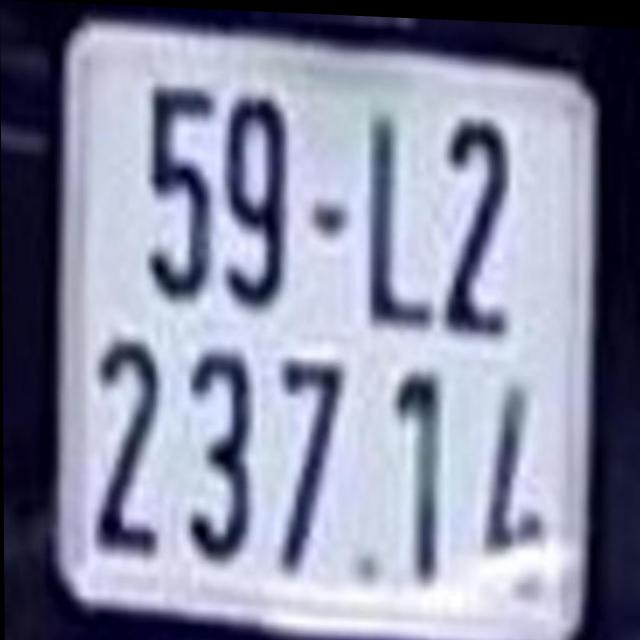1: (394, 367, 455, 592)
2: (93, 338, 163, 558), (450, 116, 509, 329)
3: (186, 348, 254, 565)
4: (488, 365, 554, 601)
5: (149, 79, 211, 295)
7: (272, 354, 350, 573)
9: (224, 90, 286, 299)
L: (364, 107, 433, 323)
